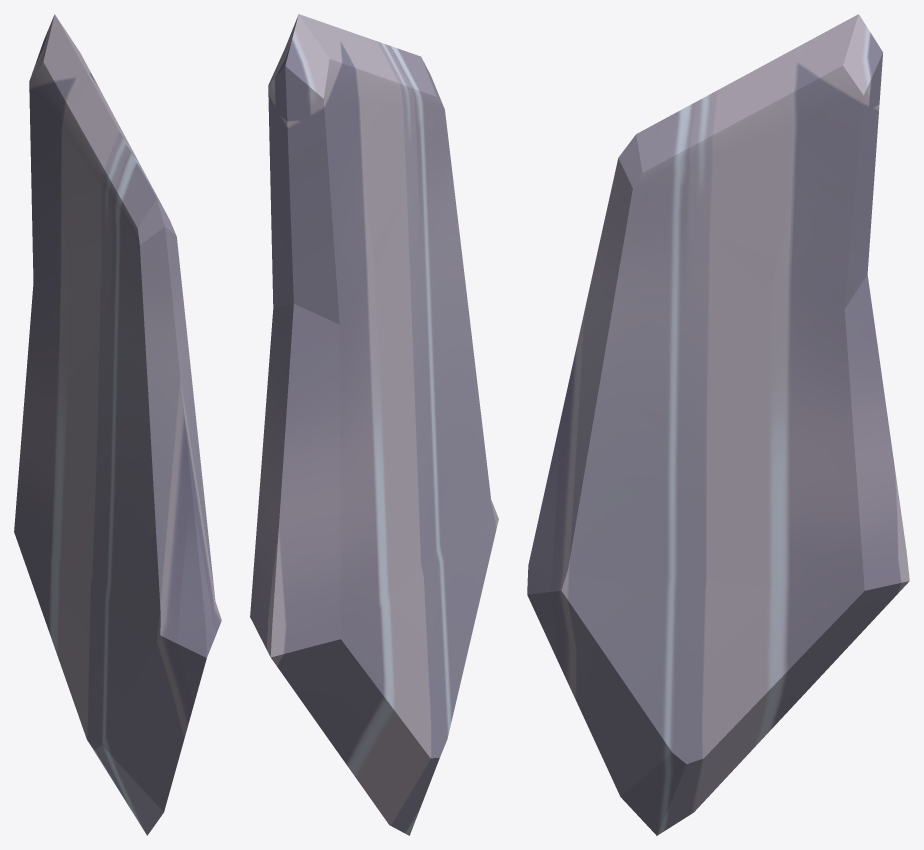
The model's file is Skill 1 Mirror 5.glb.
The picture shows the model from 3 angles, left to right: view 1: azimuth 30°, elevation 25°; view 2: azimuth 150°, elevation 25°; view 3: azimuth 270°, elevation 25°; orthographic projection. The views are drawn at different scales.
Parts seen in each view (by area): view 1: cyrene_00_skill01_mirror05_LOD0; view 2: cyrene_00_skill01_mirror05_LOD0; view 3: cyrene_00_skill01_mirror05_LOD0.
Part boxes in pixels (x1,y1,x2,y2): cyrene_00_skill01_mirror05_LOD0: (14, 14, 221, 835); cyrene_00_skill01_mirror05_LOD0: (250, 14, 498, 835); cyrene_00_skill01_mirror05_LOD0: (527, 14, 909, 835).
Size of the model in its own units: 0.1381 by 1.28 by 0.5391.
Materials: 1 (1 with a texture image).
